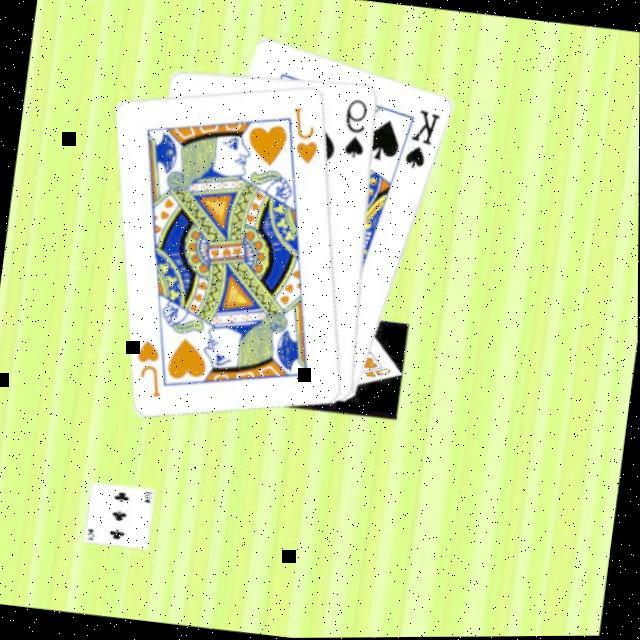9S: (336, 95, 372, 163)
JH: (283, 105, 324, 169), (128, 338, 169, 402)
KS: (399, 106, 443, 176)
